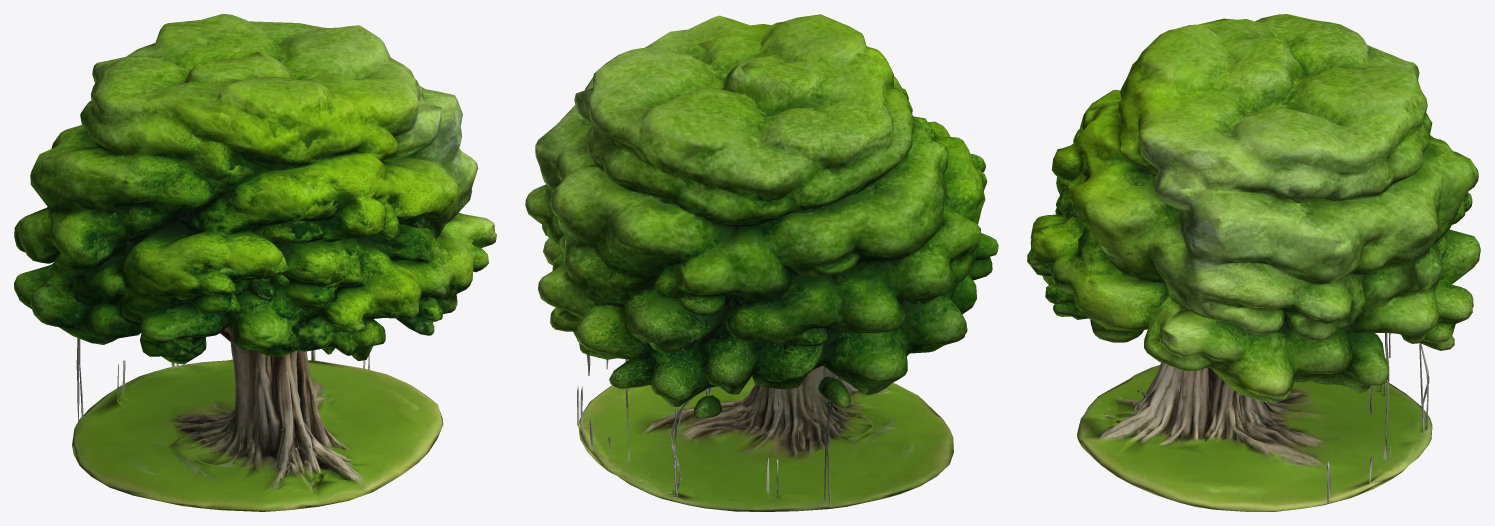
Rendered from banyan.glb.
The picture shows the model from 3 angles, left to right: view 1: azimuth 30°, elevation 25°; view 2: azimuth 150°, elevation 25°; view 3: azimuth 270°, elevation 25°; orthographic projection.
Visible parts, largest first — view 1: tripo_node_cd2d9362-2af5-49cf-8644-0aacb304f2fc; view 2: tripo_node_cd2d9362-2af5-49cf-8644-0aacb304f2fc; view 3: tripo_node_cd2d9362-2af5-49cf-8644-0aacb304f2fc.
Part boxes in pixels (x1,y1,x2,y2): tripo_node_cd2d9362-2af5-49cf-8644-0aacb304f2fc: (14, 14, 496, 511); tripo_node_cd2d9362-2af5-49cf-8644-0aacb304f2fc: (525, 14, 998, 511); tripo_node_cd2d9362-2af5-49cf-8644-0aacb304f2fc: (1027, 14, 1480, 511).
Size of the model in its own units: 0.9792 by 0.8615 by 0.925.
1 material, 1 textured.
